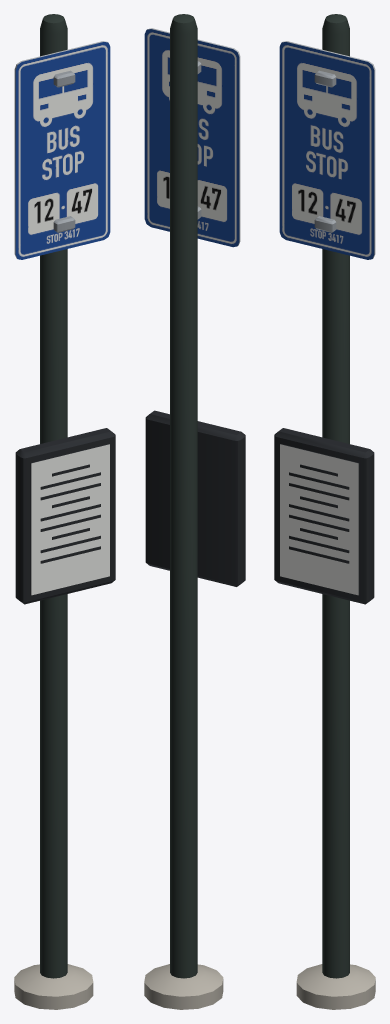
File: BusStopSign.fbx
3 renders of one model, left to right at view 1: azimuth 30°, elevation 25°; view 2: azimuth 150°, elevation 25°; view 3: azimuth 330°, elevation 25°, orthographic.
Visible parts, largest first — view 1: BusStopSign_Mesh; view 2: BusStopSign_Mesh; view 3: BusStopSign_Mesh.
Boxes of the visible parts, bbox=[...] form: BusStopSign_Mesh: bbox=[14, 14, 115, 1009]; BusStopSign_Mesh: bbox=[144, 14, 245, 1009]; BusStopSign_Mesh: bbox=[274, 14, 375, 1009].
Bounding box in the file's own units: 0.3 × 2.96 × 0.22.
